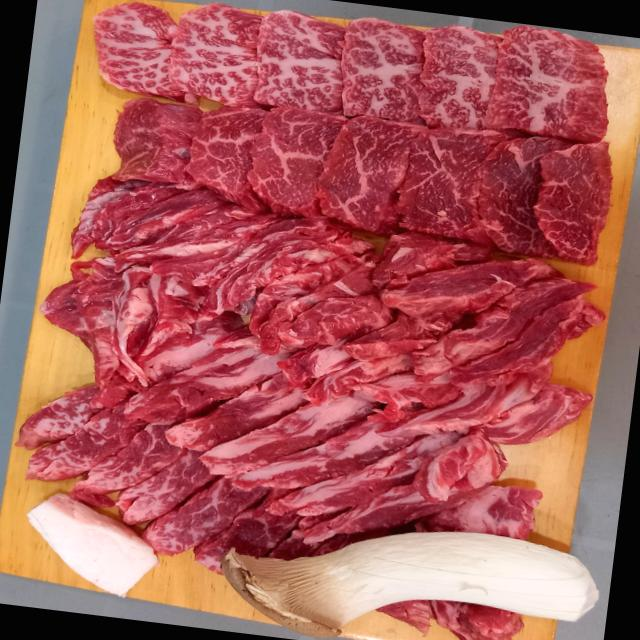beef: (79, 330, 454, 520), (62, 202, 534, 350), (122, 0, 587, 138), (121, 90, 566, 234)
